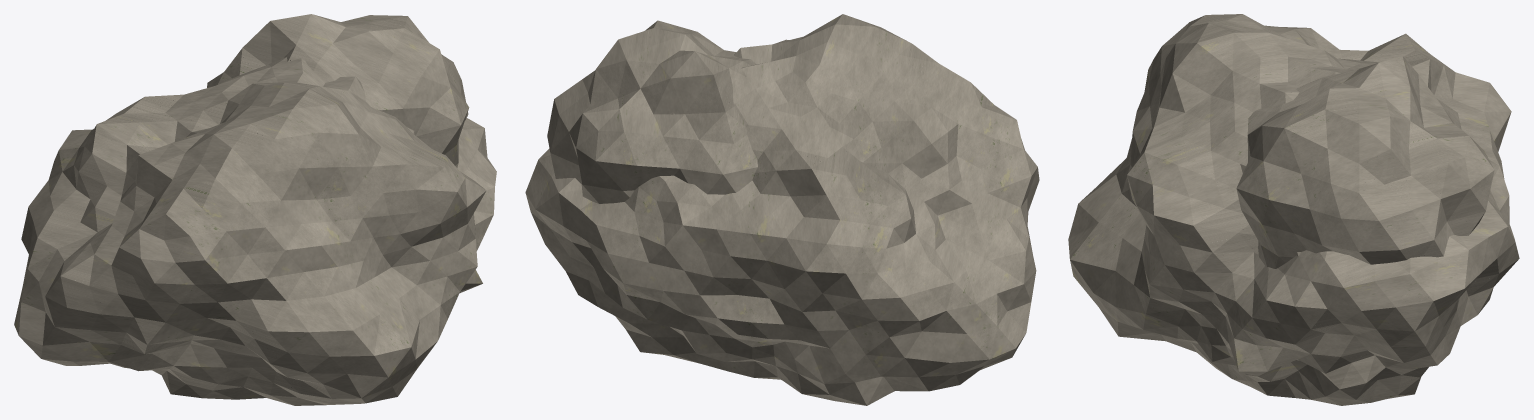
The model's file is HO_Rock_Cliff_M.fbx.
3 renders of one model, left to right at view 1: azimuth 30°, elevation 25°; view 2: azimuth 150°, elevation 25°; view 3: azimuth 270°, elevation 25°, orthographic. The views are drawn at different scales.
Visible parts, largest first — view 1: HO_Rock_Cliff_M; view 2: HO_Rock_Cliff_M; view 3: HO_Rock_Cliff_M.
Part boxes in pixels (left/top/right/bottom): HO_Rock_Cliff_M: left=14, top=14, right=496, bottom=405; HO_Rock_Cliff_M: left=525, top=14, right=1039, bottom=405; HO_Rock_Cliff_M: left=1068, top=14, right=1519, bottom=405.
Bounding box in the file's own units: 16.17 × 10.09 × 13.06.
